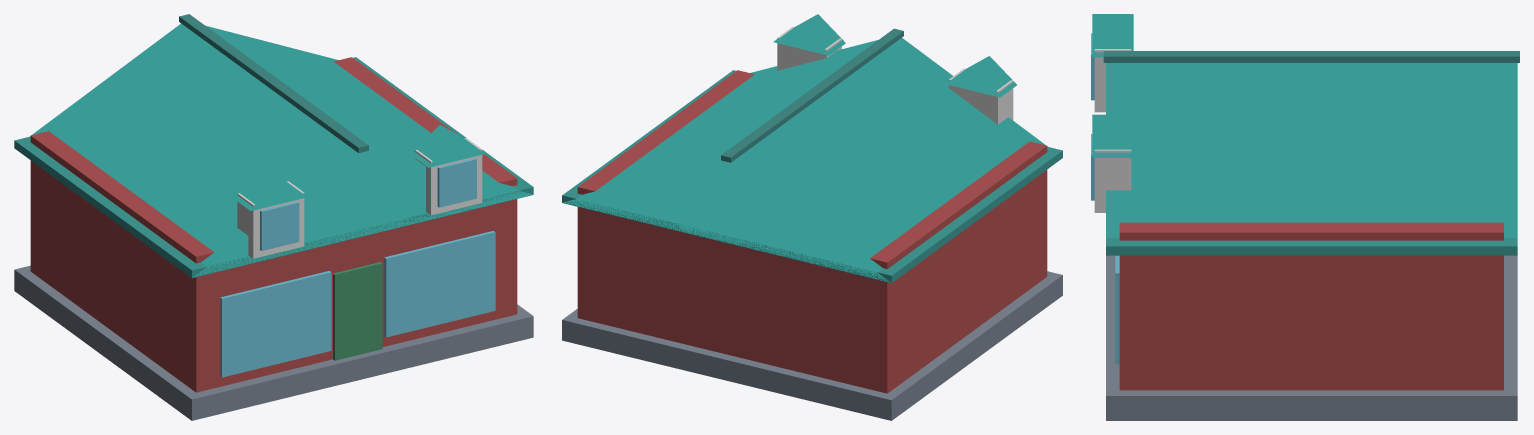
File: commercial-shop-mansard.glb
3 renders of one model, left to right at view 1: azimuth 30°, elevation 25°; view 2: azimuth 150°, elevation 25°; view 3: azimuth 270°, elevation 25°, orthographic. The views are drawn at different scales.
Visible parts, largest first — view 1: Root; view 2: Root; view 3: Root.
Part boxes in pixels (x1,y1,x2,y2): Root: [14, 14, 533, 420]; Root: [562, 14, 1062, 420]; Root: [1091, 14, 1519, 420].
Bounding box in the file's own units: 10 × 6.53 × 9.38.
